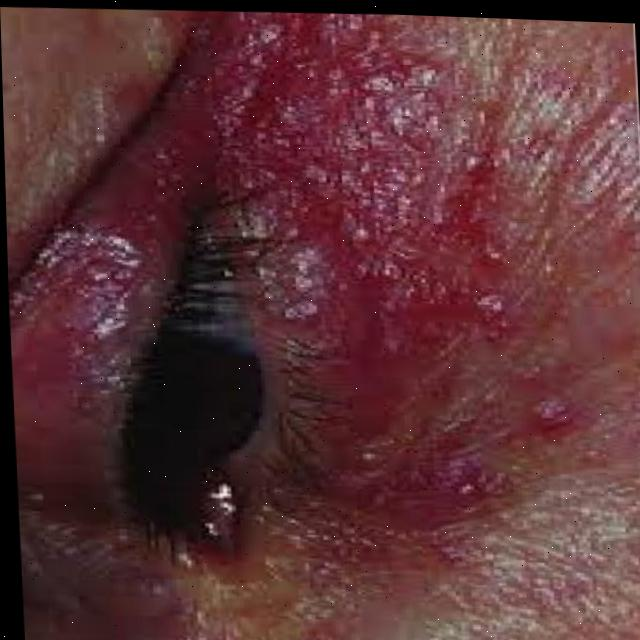Rosacea: (7, 0, 568, 515)
